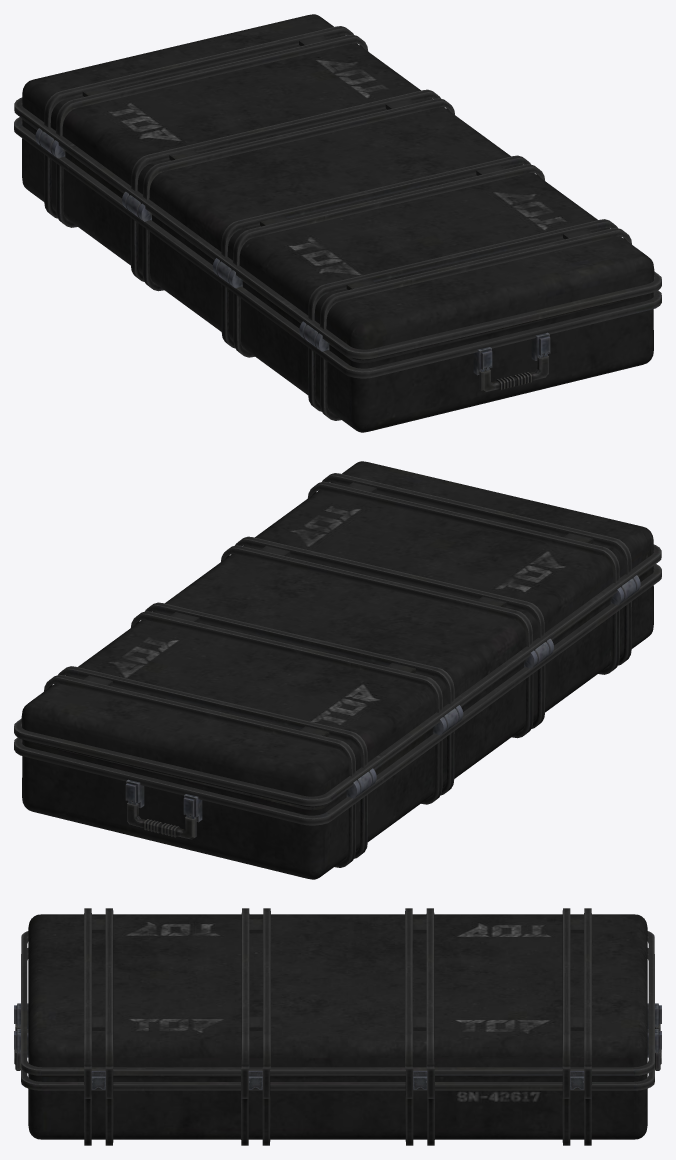
File: case_weapon_lite.glb
The picture shows the model from 3 angles, top to bottom: view 1: azimuth 30°, elevation 25°; view 2: azimuth 150°, elevation 25°; view 3: azimuth 270°, elevation 25°; orthographic projection. The views are drawn at different scales.
Parts seen in each view (by area): view 1: lid, body; view 2: lid, body; view 3: lid, body.
Part boxes in pixels (x1,y1,x2,y2): lid: (14,14,661,360); body: (14,117,661,432); lid: (14,461,661,807); body: (14,564,661,879); lid: (21,908,654,1076); body: (14,948,661,1145).
Size of the model in its own units: 0.6567 by 0.2419 by 1.26.
Materials: 1 (1 with a texture image).
